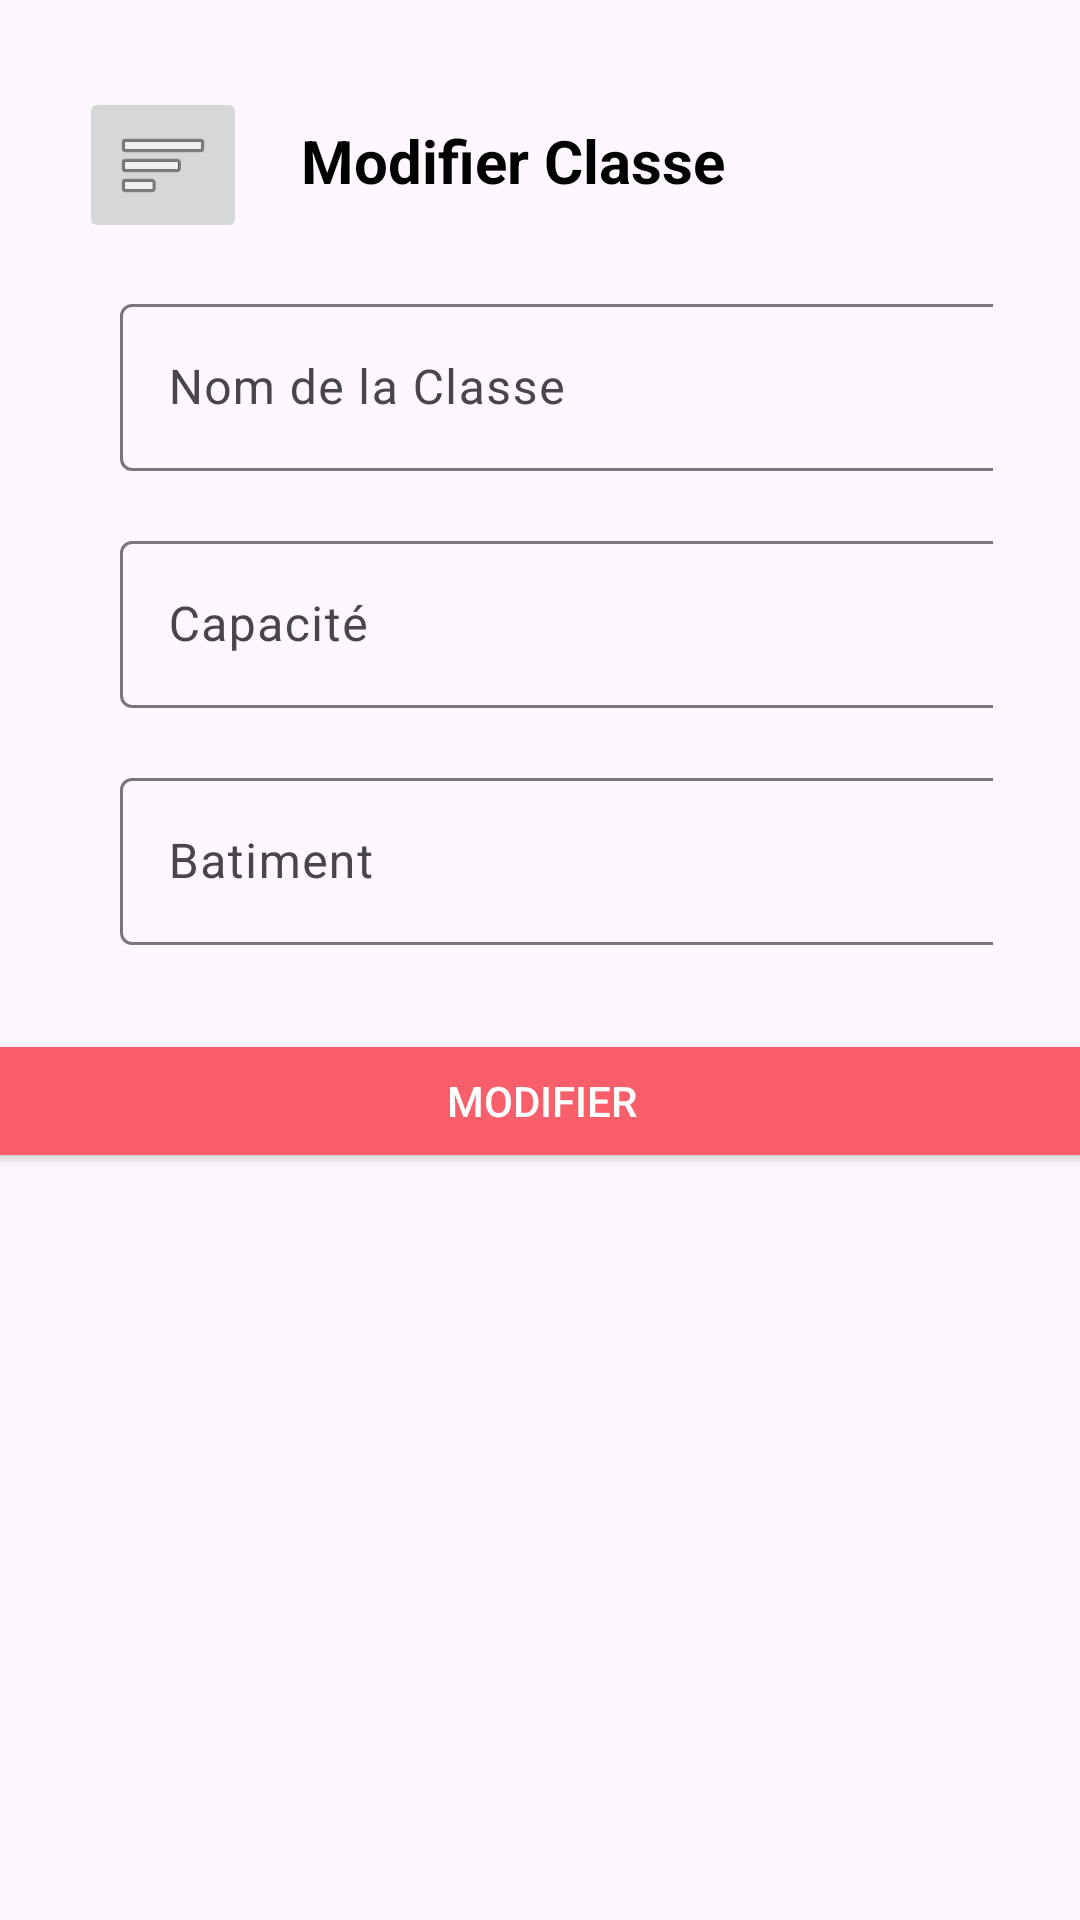

Icon bounding boxes for this 1080×1920 phone screenshot, format (x1, y1, x2, y2):
sort by size: (91, 105, 235, 225)
